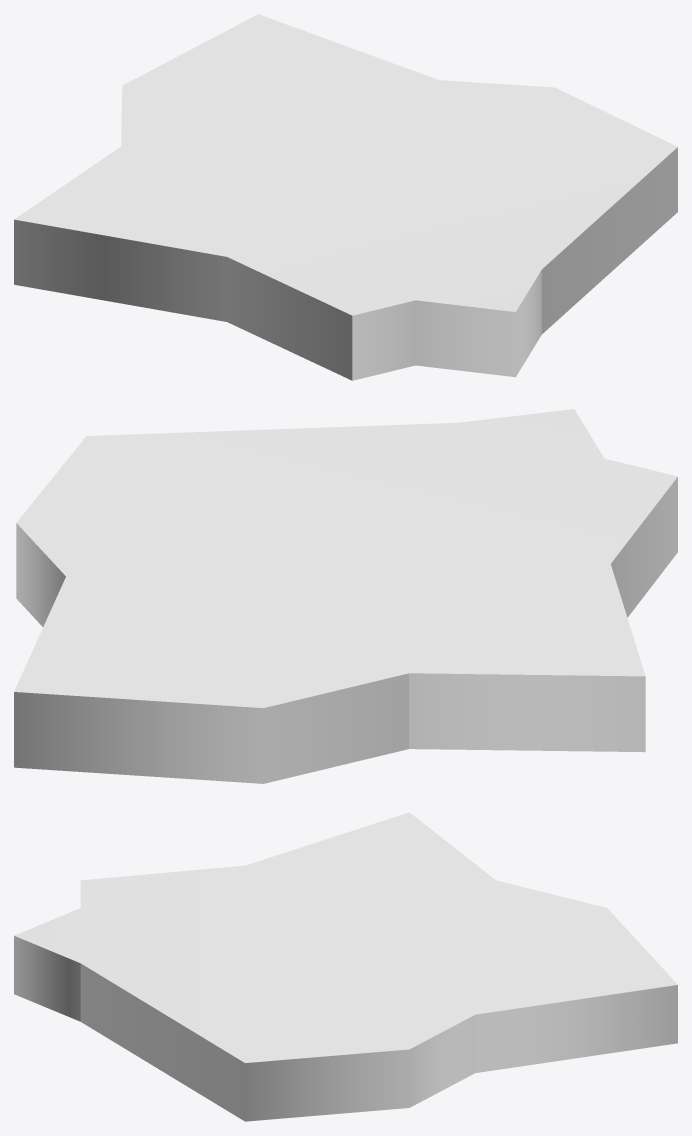
File: Rock 39.FBX
The picture shows the model from 3 angles, top to bottom: view 1: azimuth 30°, elevation 25°; view 2: azimuth 150°, elevation 25°; view 3: azimuth 270°, elevation 25°; orthographic projection. The views are drawn at different scales.
Visible parts, largest first — view 1: Box001; view 2: Box001; view 3: Box001.
Part boxes in pixels (left/top/right/bottom): Box001: left=14, top=14, right=677, bottom=380; Box001: left=14, top=409, right=677, bottom=783; Box001: left=14, top=812, right=677, bottom=1121.
Bounding box in the file's own units: 44.7 × 4.86 × 50.01.
